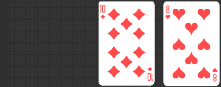10D: (100, 4, 107, 21)
8H: (165, 5, 172, 21)
